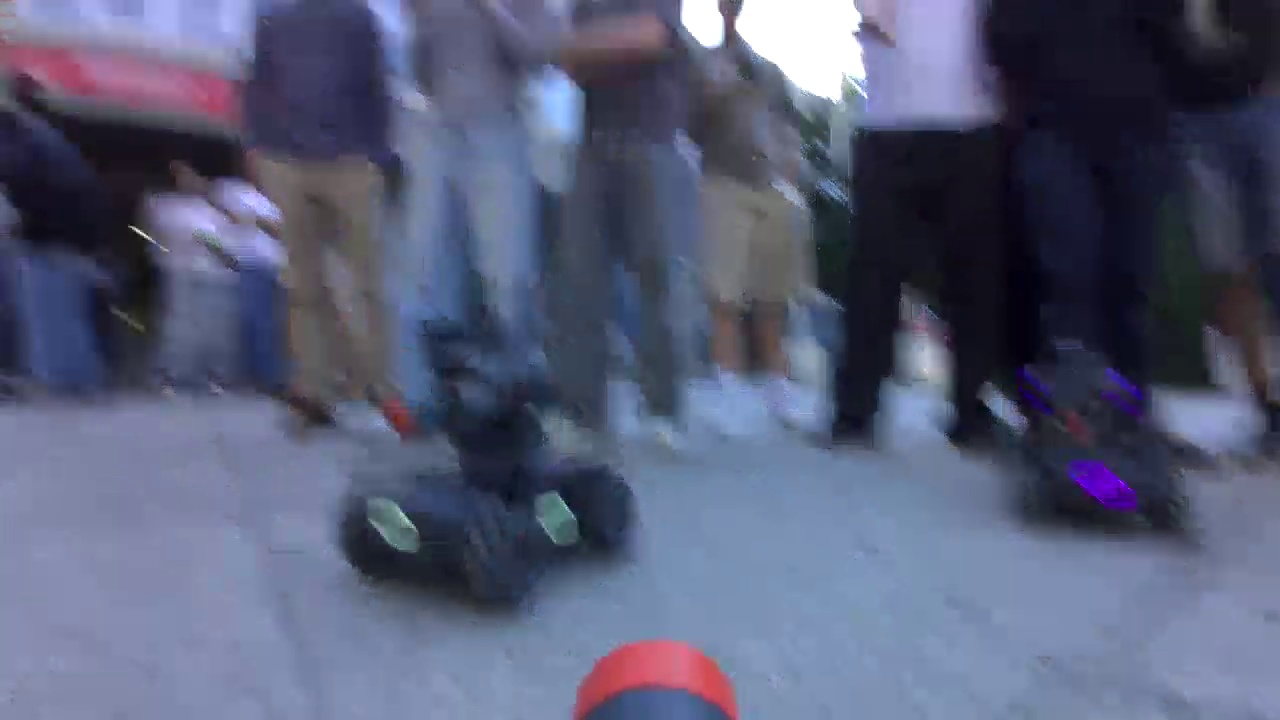robot: (345, 330, 635, 605), (1000, 306, 1211, 532)
